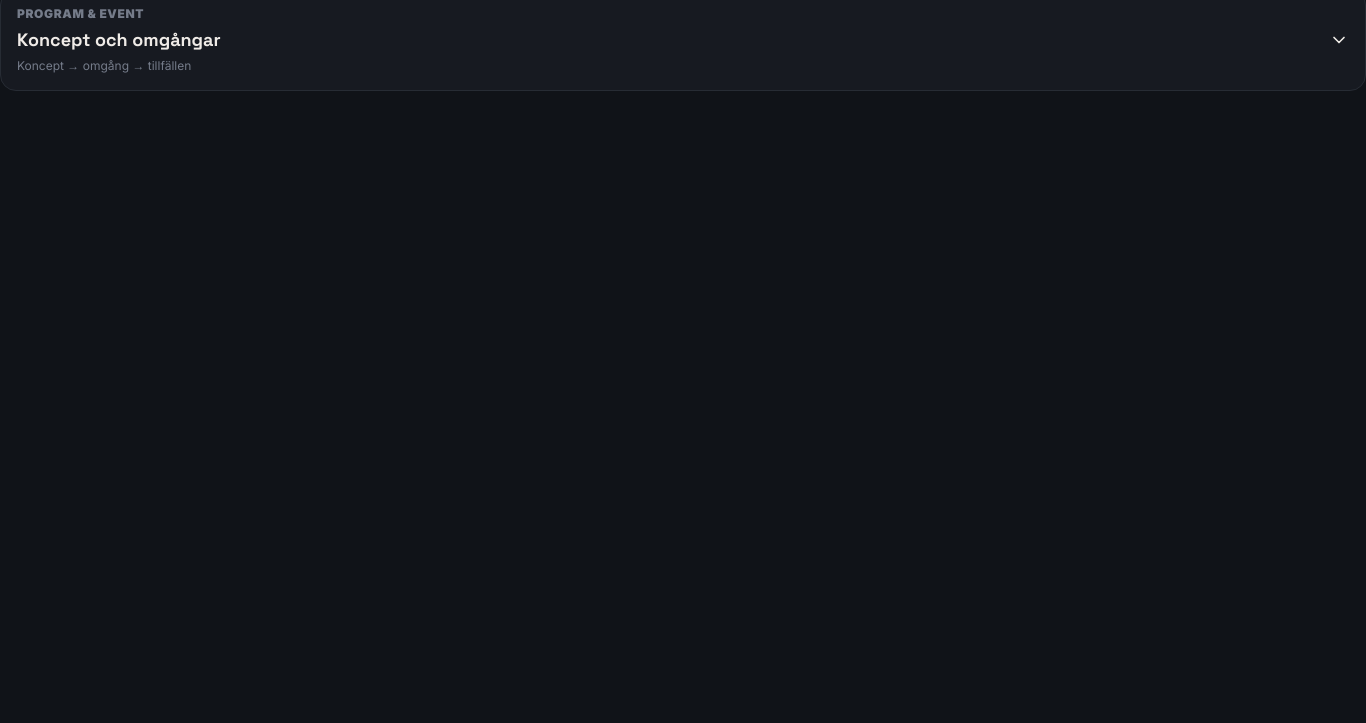
Course V1 Admin › configures the participant policy per Course offer without changing the age taxonomy
Later steps or results of the test are not shown.
Click the button "Program": [81, 14] box [17,6,1349,74]
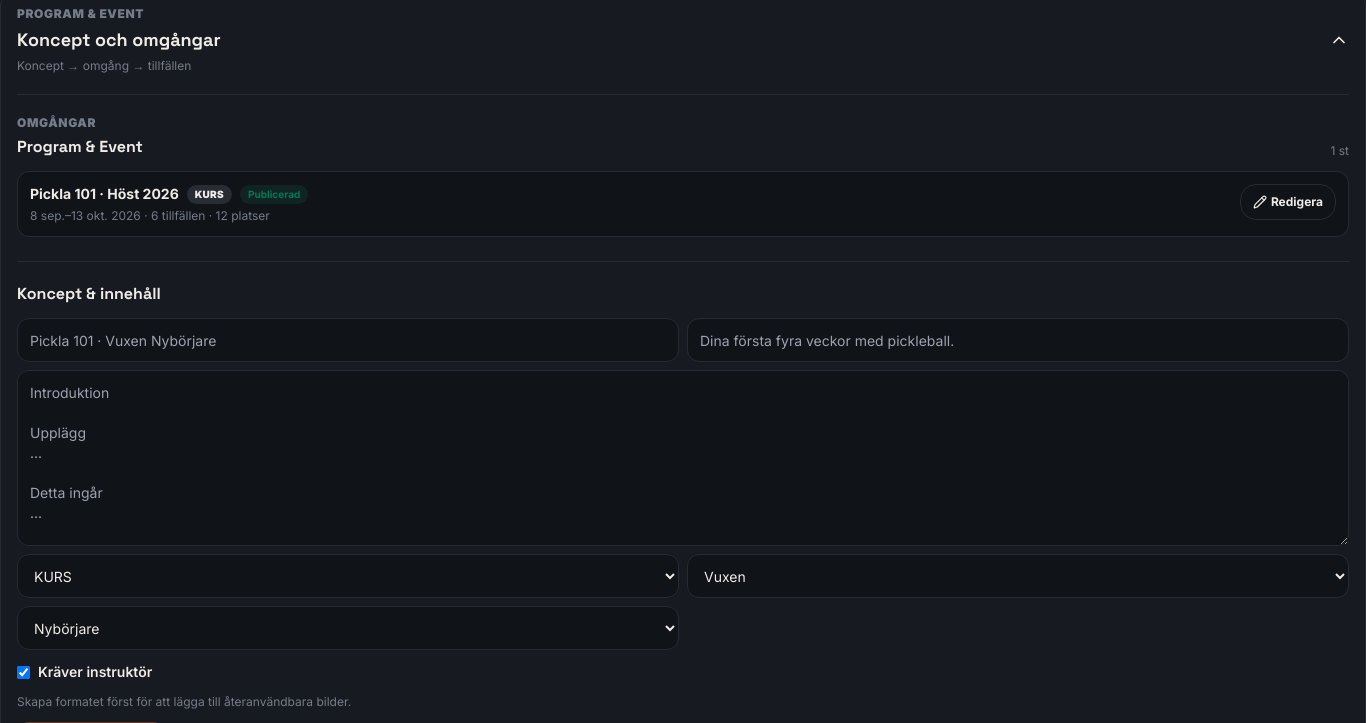
Click the button with aria-label "Redigera omgång Pickla 101 · Höst 2026": [1288, 202] box [1240,184,1336,220]
(page scrolled)
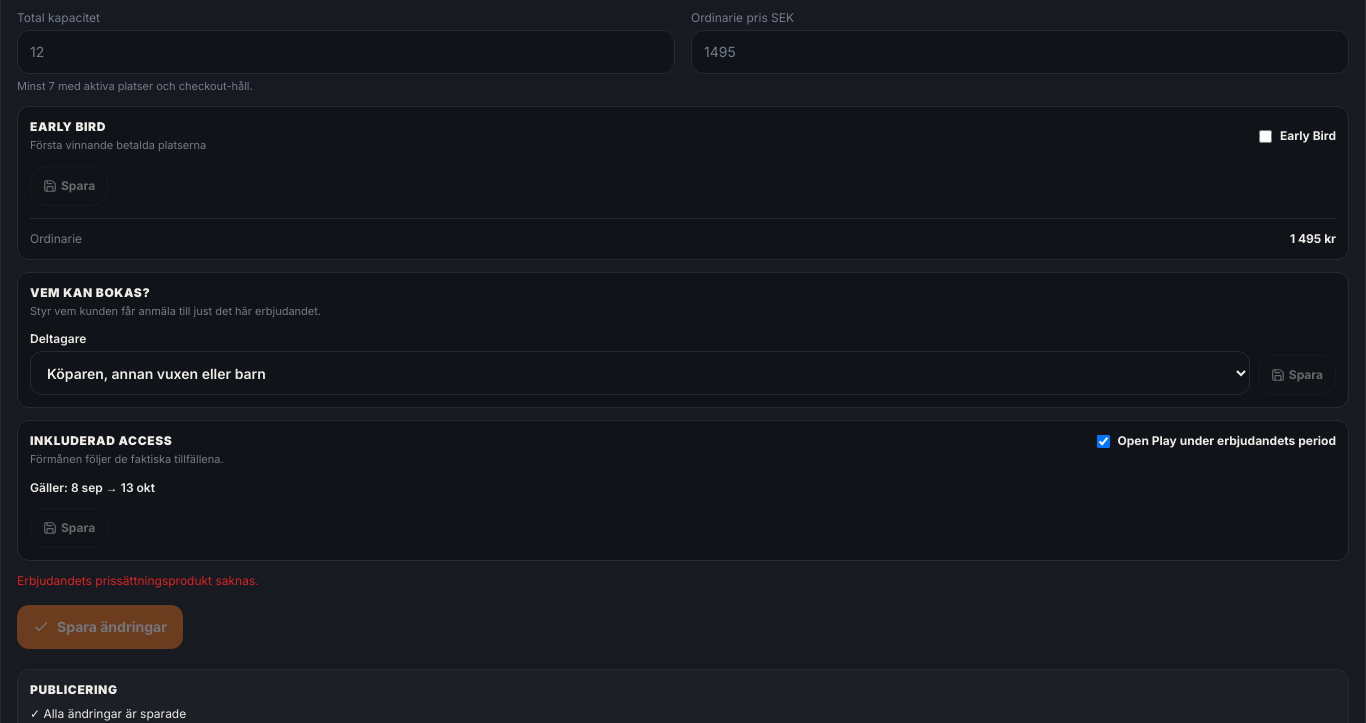
Now the dropdown named "Vem kan bokas?" shows "Köparen, annan vuxen eller barn", box [30,351,1250,395]
